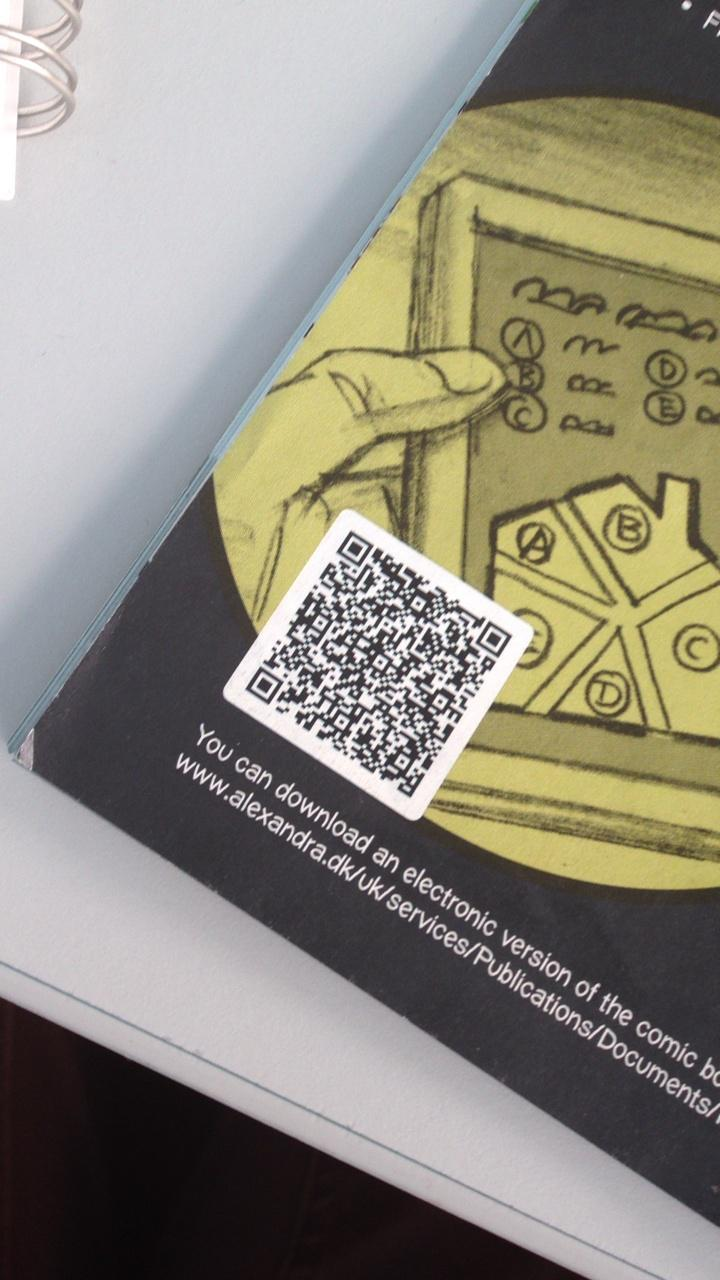Finder pattern: (473, 616, 514, 660), (336, 526, 375, 571), (245, 663, 284, 704)
